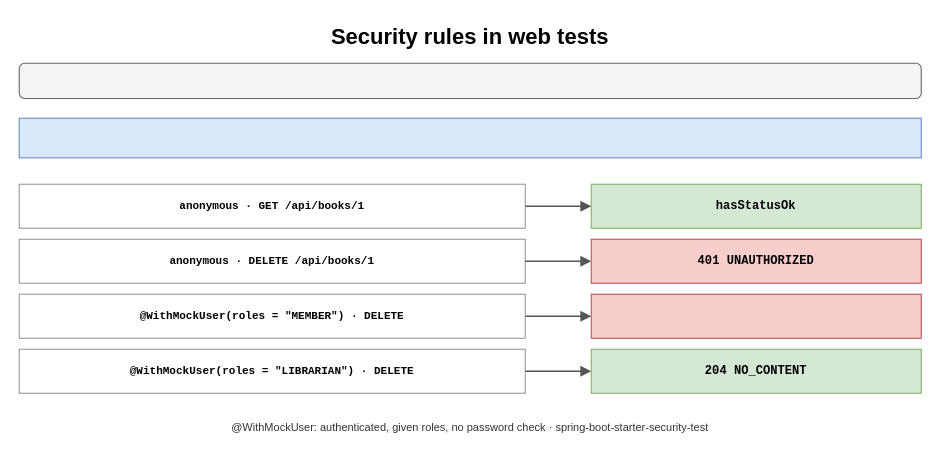
Some shapes in this 941 by 458 pixel diagram are drawn without their labels. Each missing label, with the centre of its shape:
"403 FORBIDDEN" goes at point (755, 315).
"@WebMvcTest(BookApi.class) @Import(ApiSecurity.class)" goes at point (469, 137).
"Import your SecurityFilterChain and test each rule from both sides" goes at point (469, 80).
